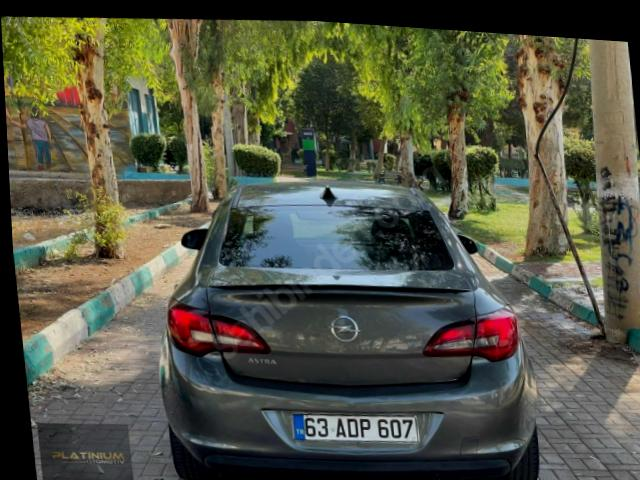plaka: (291, 413, 419, 444)
